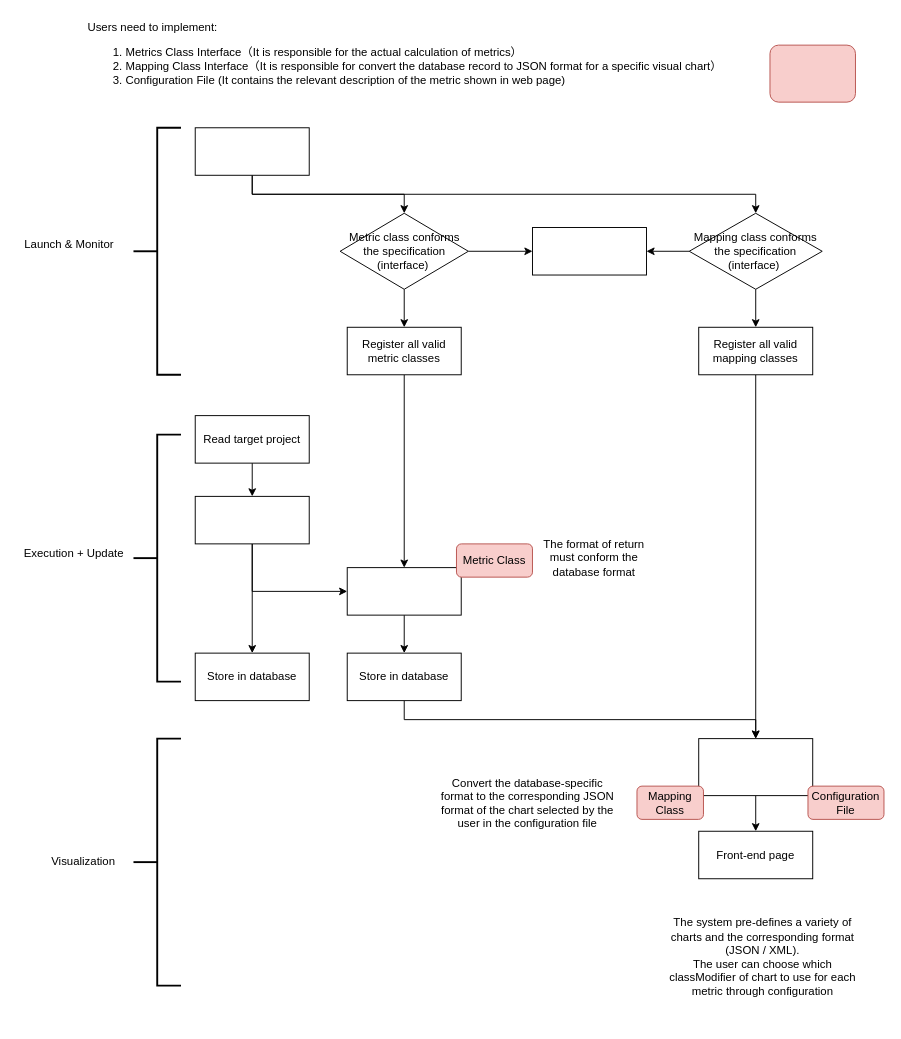
Some shapes in this 901 by 1039 pixel diagram are drawn without their labels. Here are the shapes that lost their labels. From the top down, the centre of each, then its label:
(x=812, y=73): User Customized Class/File
(x=251, y=151): Load all jar files from specific plugin folder
(x=589, y=251): Exception
(x=251, y=519): Extract metadata
(x=403, y=591): Calculate the results of metrics
(x=755, y=767): Render the web pages based on mapping classes and Configuration files
